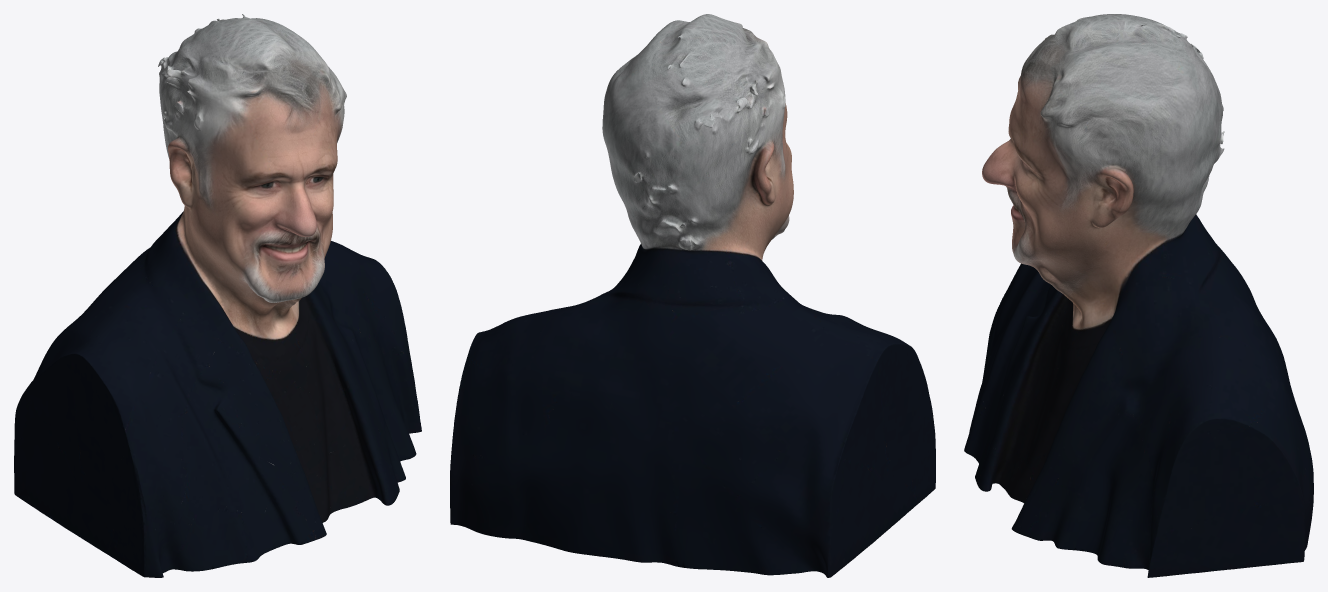
The model's file is John_de_Lancie_V-3.0.glb.
3 renders of one model, left to right at view 1: azimuth 30°, elevation 25°; view 2: azimuth 150°, elevation 25°; view 3: azimuth 270°, elevation 25°, orthographic.
Bounding box in the file's own units: 1.59 × 1.9 × 1.29.
1 material, 1 textured.
